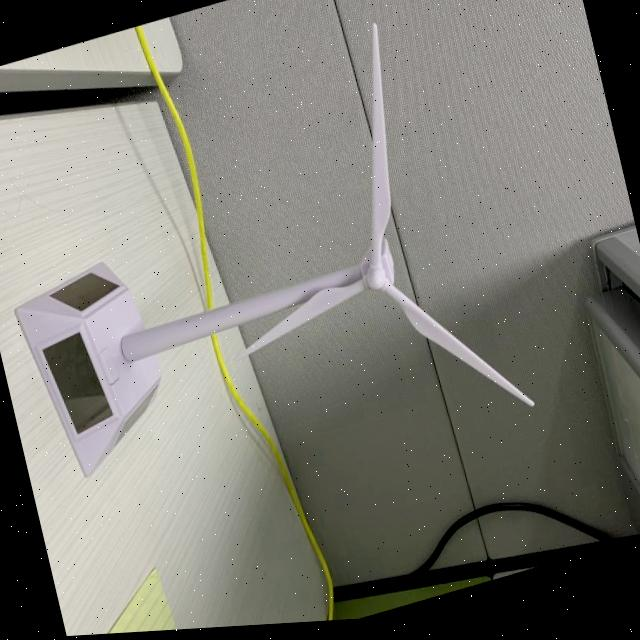solid-blade: (385, 288, 532, 412), (237, 283, 365, 362), (370, 28, 390, 262)
